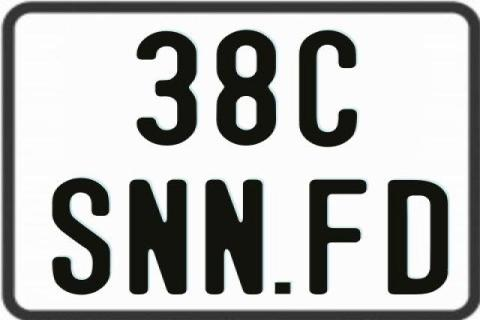0: (215, 30, 280, 146), (136, 31, 197, 149)
C: (297, 31, 358, 149)
D: (388, 180, 448, 296)
F: (308, 180, 367, 298)
N: (206, 177, 269, 292), (128, 177, 187, 296)
S: (52, 177, 112, 295)
